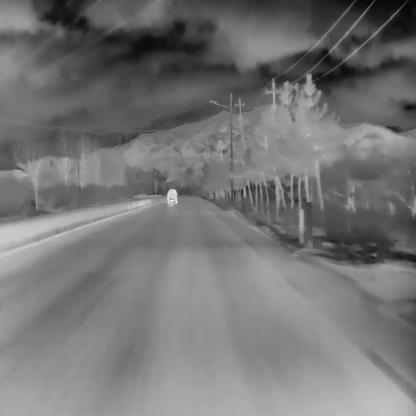car: (166, 188, 177, 203)
